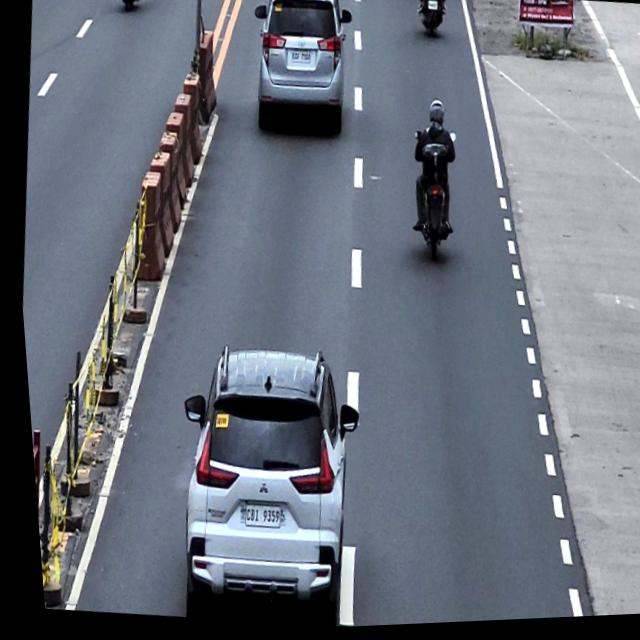Car: (152, 336, 371, 627), (239, 0, 360, 141)
License-Plate: (232, 501, 276, 532), (288, 50, 311, 67), (426, 2, 438, 15)
Motorcycle: (397, 129, 461, 267), (412, 0, 448, 41), (114, 0, 146, 14)
